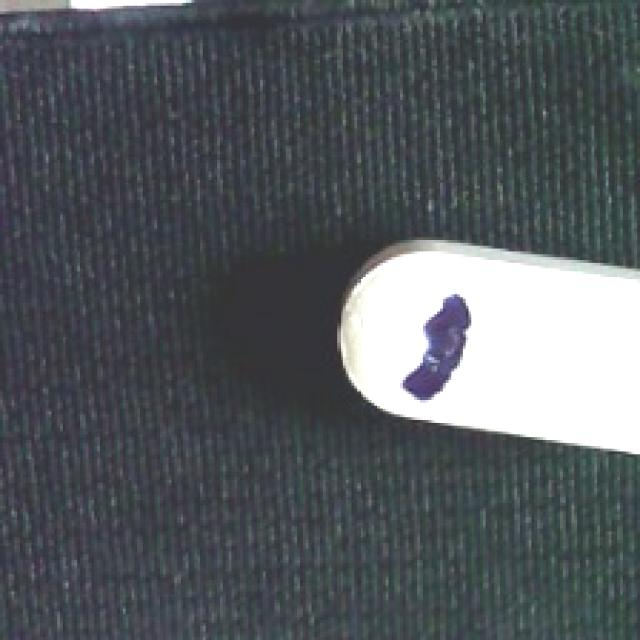defected: (323, 237, 640, 459)
